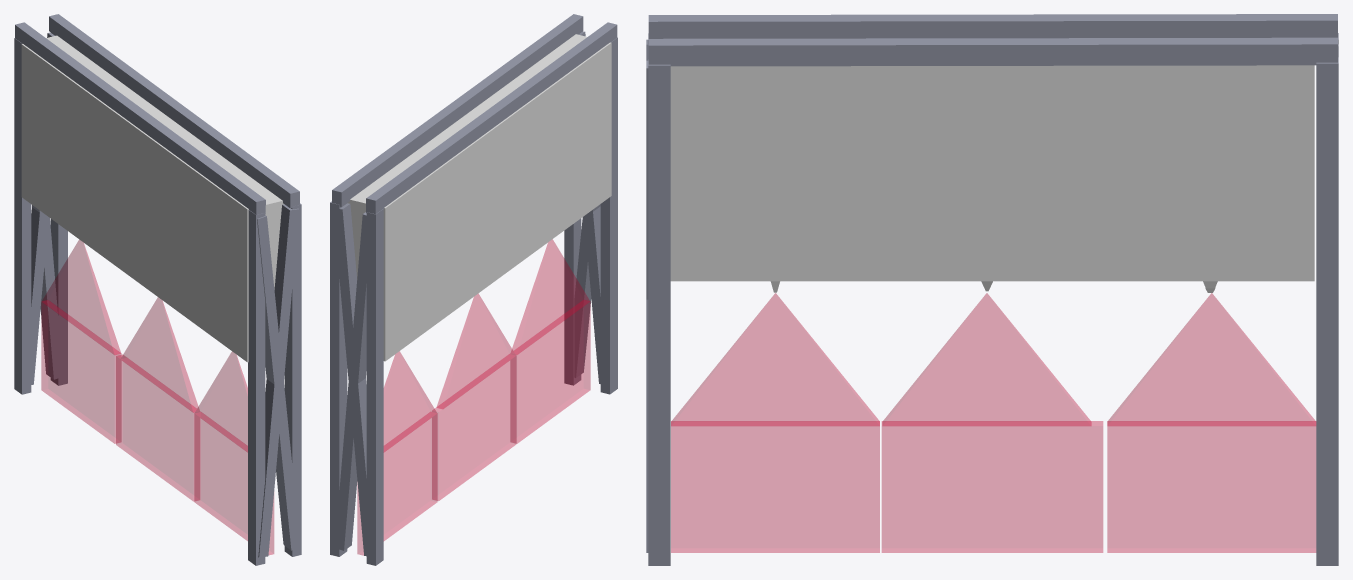
The model's file is MathGate1.fbx.
The picture shows the model from 3 angles, left to right: view 1: azimuth 30°, elevation 25°; view 2: azimuth 150°, elevation 25°; view 3: azimuth 270°, elevation 25°; orthographic projection. The views are drawn at different scales.
Parts seen in each view (by area): view 1: Sign, Middle_Gate, Right_Gate, Top_BeamFront, Top_BeamBack, Left_BeamBack, Left_Gate, Left_MiddleBeam_1, Left_BeamMiddle2, Right_BeamBack, Projector_Right, Projector_Middle (+5 smaller); view 2: Sign, Middle_Gate, Left_Gate, Right_BeamBack, Top_BeamFront, Top_BeamBack, Right_Gate, Left_BeamBack, Right_MiddleBeam_1, Right_BeamMiddle_2, Right_FrontBeam, Projector_Middle (+5 smaller); view 3: Sign, Middle_Gate, Left_Gate, Right_Gate, Top_BeamFront, Top_BeamBack, Projector_Middle, Projector_Right, Projector_Left, Right_FrontBeam, Left_FonrBeam.
Part boxes in pixels (left/top/right/bottom): Sign: left=21, top=35, right=283, bottom=362; Middle_Gate: left=116, top=354, right=199, bottom=501; Right_Gate: left=41, top=300, right=121, bottom=443; Top_BeamFront: left=49, top=14, right=299, bottom=208; Top_BeamBack: left=15, top=22, right=265, bottom=214; Left_BeamBack: left=248, top=210, right=265, bottom=565; Left_Gate: left=194, top=412, right=273, bottom=554; Left_MiddleBeam_1: left=258, top=204, right=299, bottom=557; Left_BeamMiddle2: left=257, top=215, right=300, bottom=550; Right_BeamBack: left=14, top=38, right=31, bottom=394; Projector_Right: left=42, top=240, right=120, bottom=354; Projector_Middle: left=120, top=297, right=199, bottom=412; Sign: left=347, top=34, right=611, bottom=361; Middle_Gate: left=432, top=354, right=516, bottom=500; Left_Gate: left=510, top=300, right=590, bottom=443; Right_BeamBack: left=366, top=209, right=383, bottom=565; Top_BeamFront: left=332, top=14, right=583, bottom=206; Top_BeamBack: left=366, top=22, right=617, bottom=214; Right_Gate: left=357, top=412, right=437, bottom=555; Left_BeamBack: left=600, top=37, right=617, bottom=394; Right_MiddleBeam_1: left=333, top=203, right=366, bottom=556; Right_BeamMiddle_2: left=339, top=212, right=371, bottom=550; Right_FrontBeam: left=330, top=201, right=347, bottom=556; Projector_Middle: left=436, top=293, right=515, bottom=408; Sign: left=670, top=65, right=1314, bottom=292; Middle_Gate: left=882, top=421, right=1102, bottom=552; Left_Gate: left=671, top=421, right=879, bottom=552; Right_Gate: left=1107, top=421, right=1315, bottom=552; Top_BeamFront: left=648, top=37, right=1337, bottom=66; Top_BeamBack: left=648, top=14, right=1337, bottom=38; Projector_Middle: left=882, top=293, right=1091, bottom=425; Projector_Right: left=1107, top=293, right=1315, bottom=425; Projector_Left: left=671, top=293, right=879, bottom=425; Right_FrontBeam: left=1316, top=57, right=1338, bottom=565; Left_FonrBeam: left=648, top=59, right=670, bottom=565.
Bounding box in the file's own units: 406 × 3023 × 3640.
